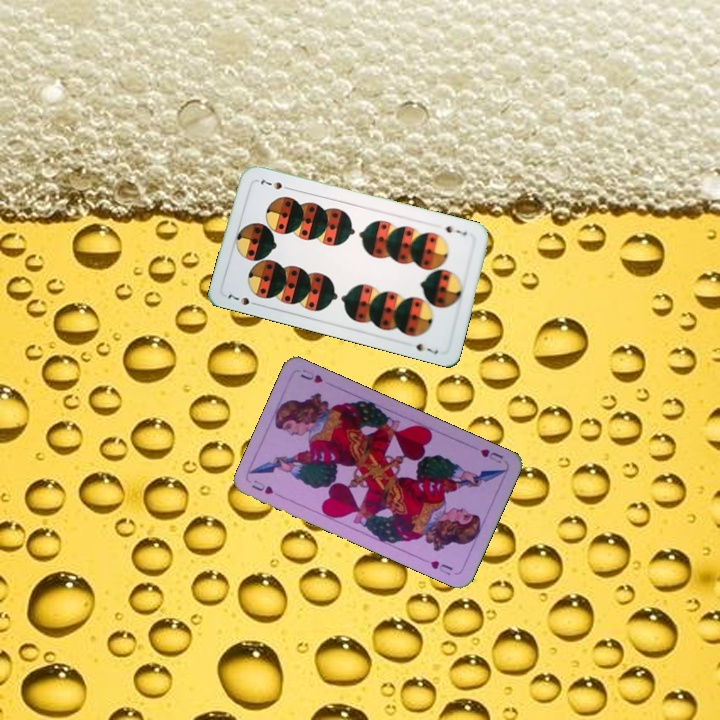HU: (476, 445, 506, 466), (248, 476, 276, 497)
S7: (224, 290, 262, 309), (442, 221, 469, 238)
